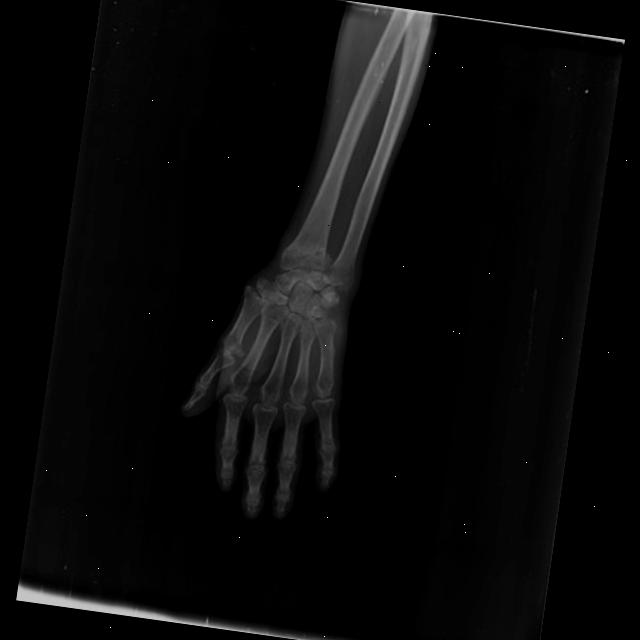Fracture: (274, 241, 338, 279), (238, 275, 282, 320)
